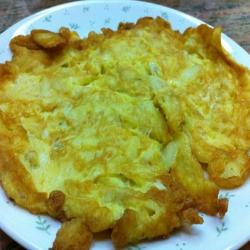omelette: (1, 19, 250, 245)
